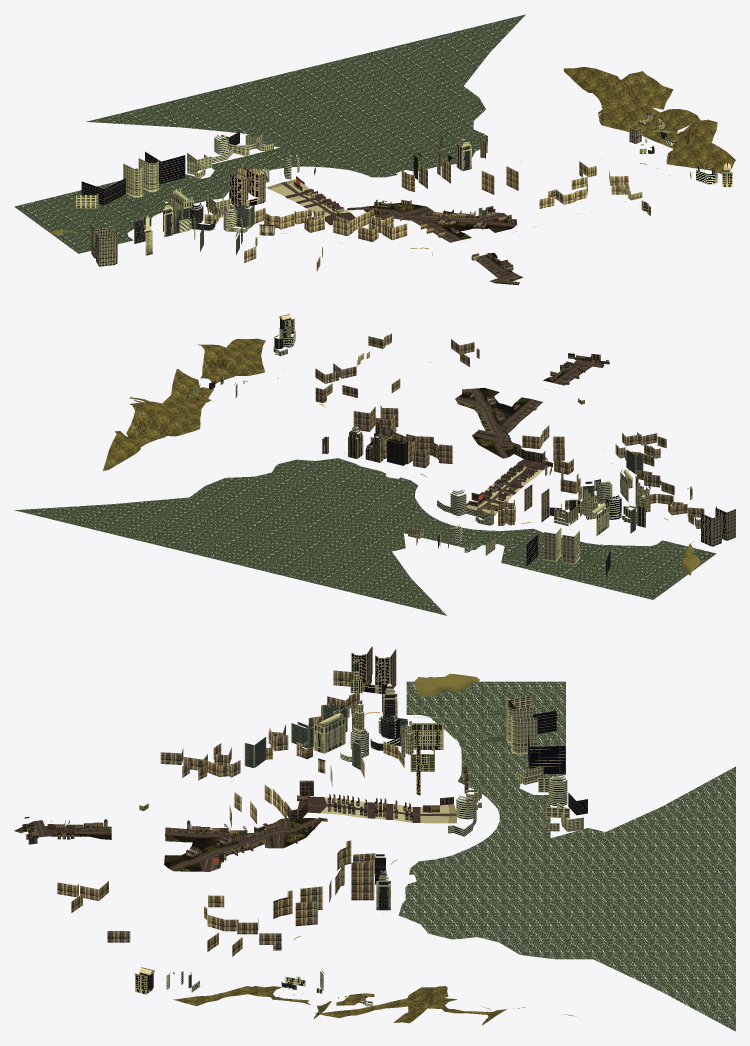
File: track-B2_C3_V1_env.glb
3 views of the same model, one above another, from view 1: azimuth 30°, elevation 25°; view 2: azimuth 150°, elevation 25°; view 3: azimuth 270°, elevation 25° (orthographic). The views are drawn at different scales.
Parts seen in each view (by area): view 1: B2_C3_V1_env; view 2: B2_C3_V1_env; view 3: B2_C3_V1_env.
Boxes of the visible parts, x1,y1,x2,y2 form: B2_C3_V1_env: (14, 14, 735, 285); B2_C3_V1_env: (15, 314, 735, 615); B2_C3_V1_env: (14, 646, 735, 1031).
Size of the model in its own units: 3415 by 233 by 2880.
20 materials, 19 textured.
